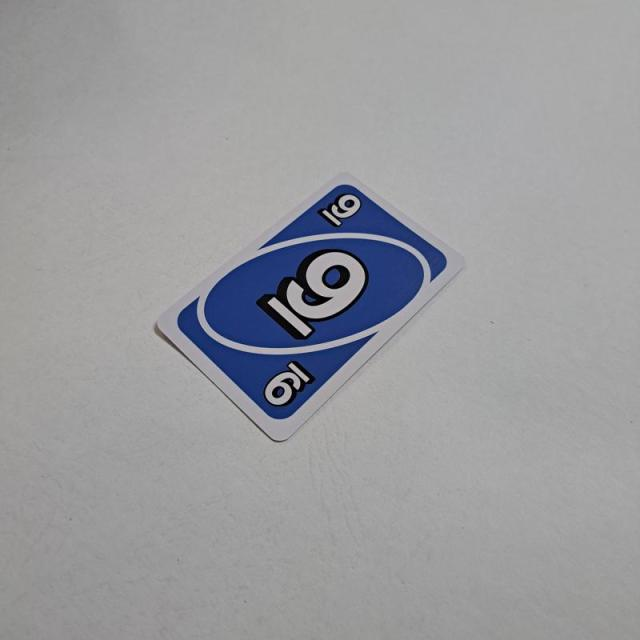Blue_Card: (172, 180, 452, 424)
Number_9: (314, 191, 371, 228)
